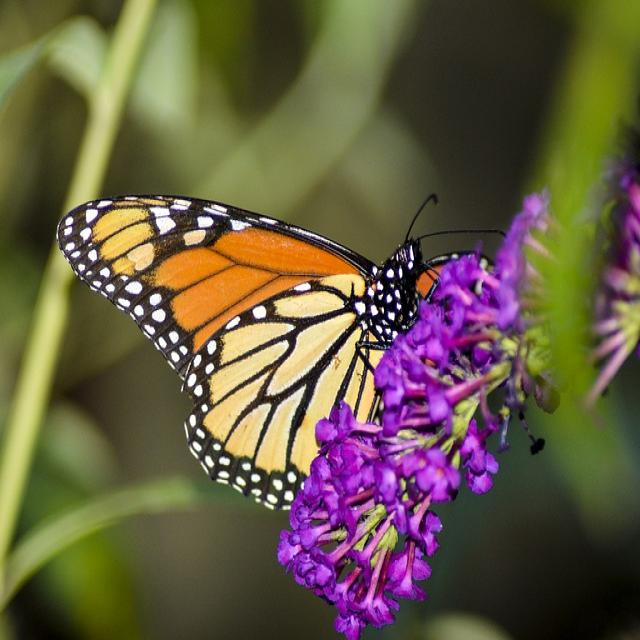butterfly: (58, 197, 448, 509)
